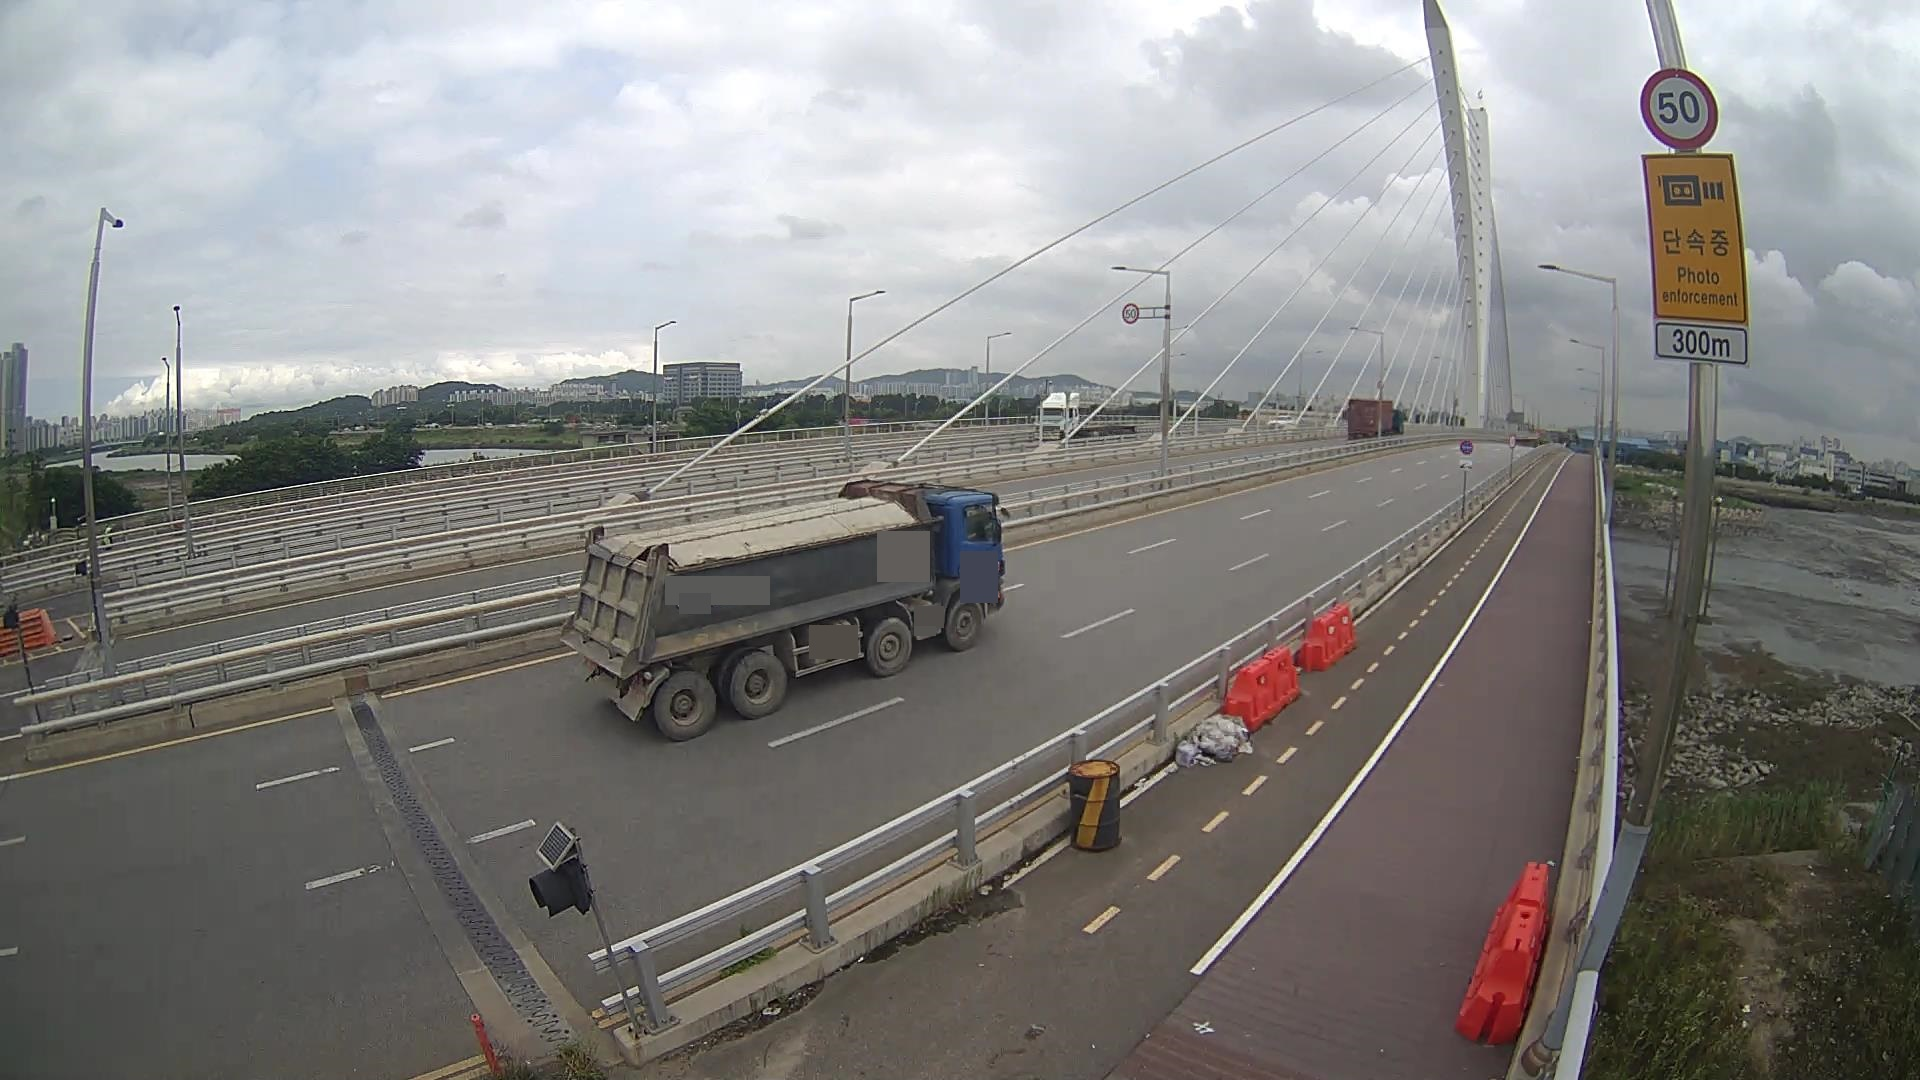정상차량: (559, 479, 1010, 740)
